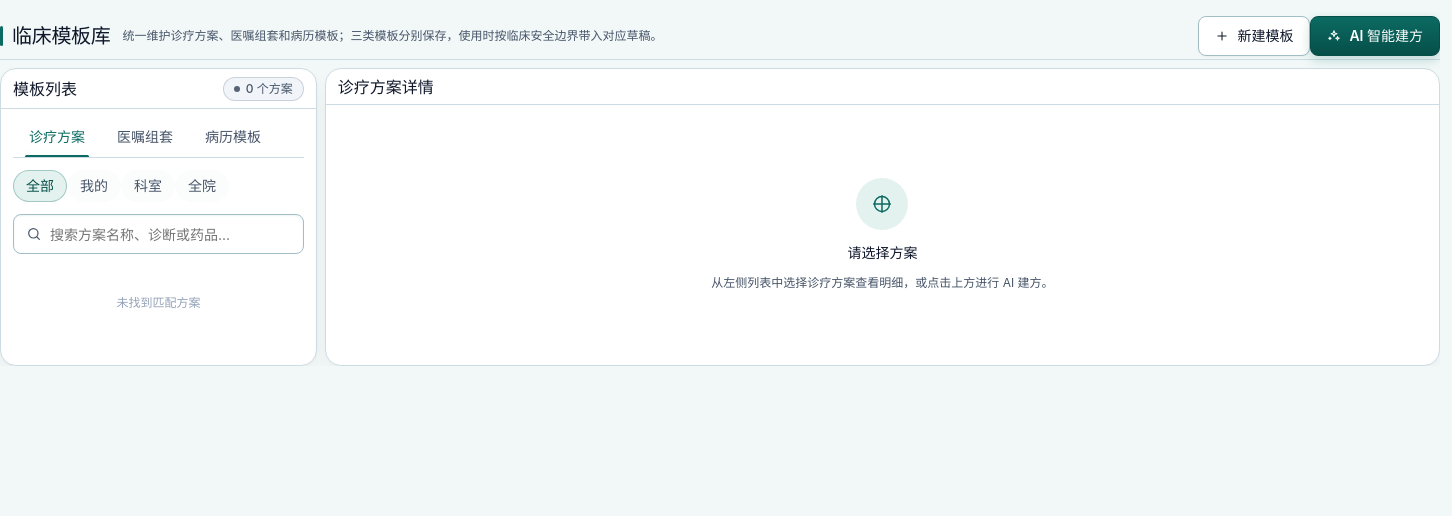
it: order sets in the library › shows a new order set with default-selection and execution department per row, and actions to edit, copy and disable
Click the tab "医嘱组套" at {"x": 145, "y": 137}, box [101, 117, 189, 157]
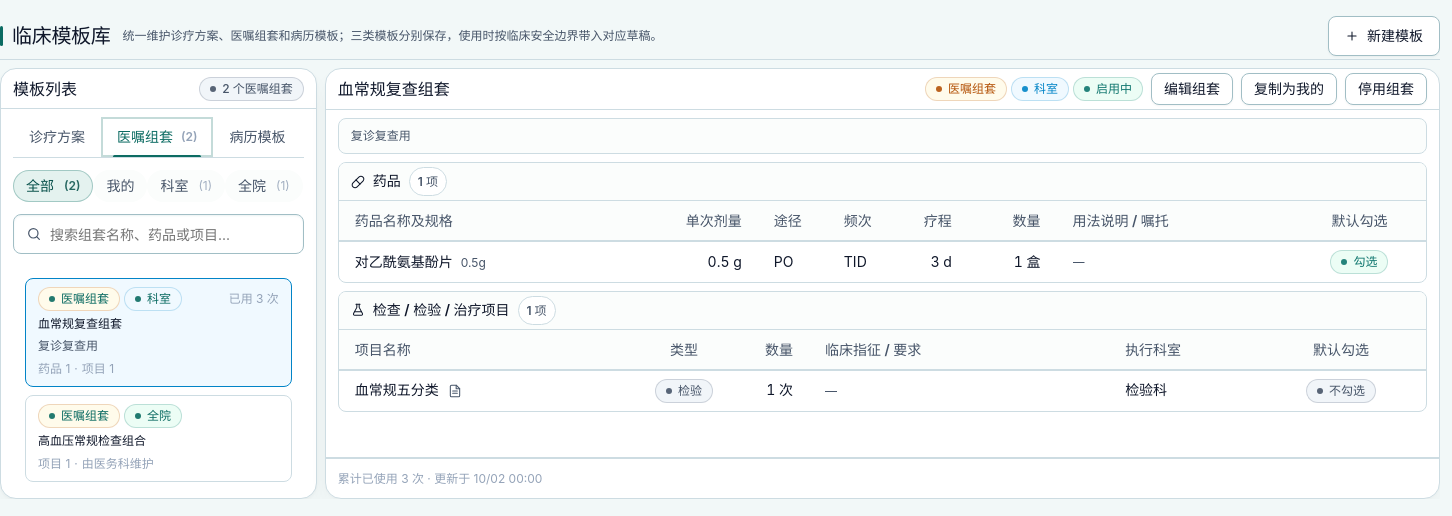
Now the button "编辑组套" is shown, box [1151, 73, 1233, 105]
Now the button "复制为我的" is shown, box [1241, 73, 1337, 105]
Now the button "停用组套" is shown, box [1345, 73, 1427, 105]
